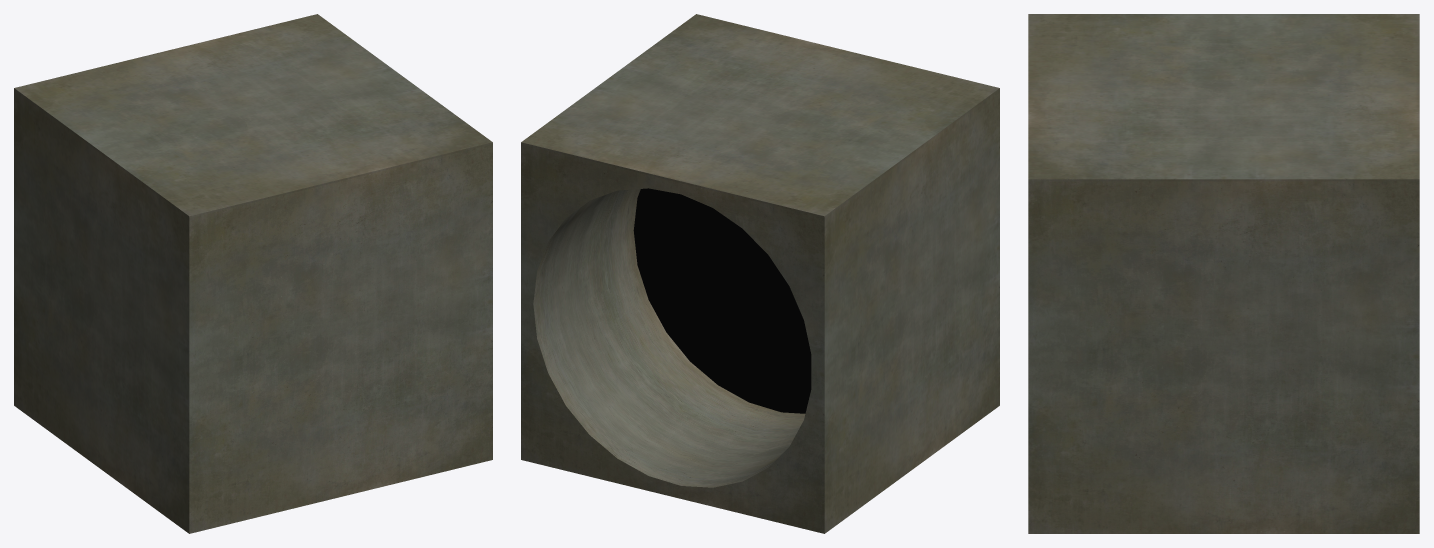
The model's file is deathcube.FBX.
3 views of the same model, side by side, from view 1: azimuth 30°, elevation 25°; view 2: azimuth 150°, elevation 25°; view 3: azimuth 270°, elevation 25° (orthographic). The views are drawn at different scales.
Visible parts, largest first — view 1: Box001; view 2: Box001; view 3: Box001.
Boxes of the visible parts, x1,y1,x2,y2 form: Box001: (14, 14, 492, 533); Box001: (521, 14, 999, 533); Box001: (1028, 14, 1419, 533).
Size of the model in its own units: 10 by 10 by 10.
Materials: 2 (1 with a texture image).
